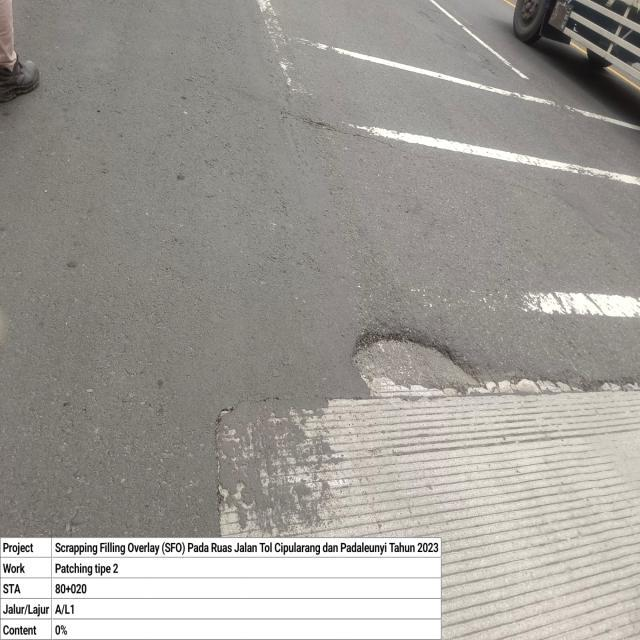Buraco: (346, 326, 490, 397)
